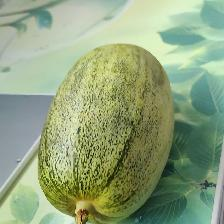gua: (66, 53, 148, 201)
